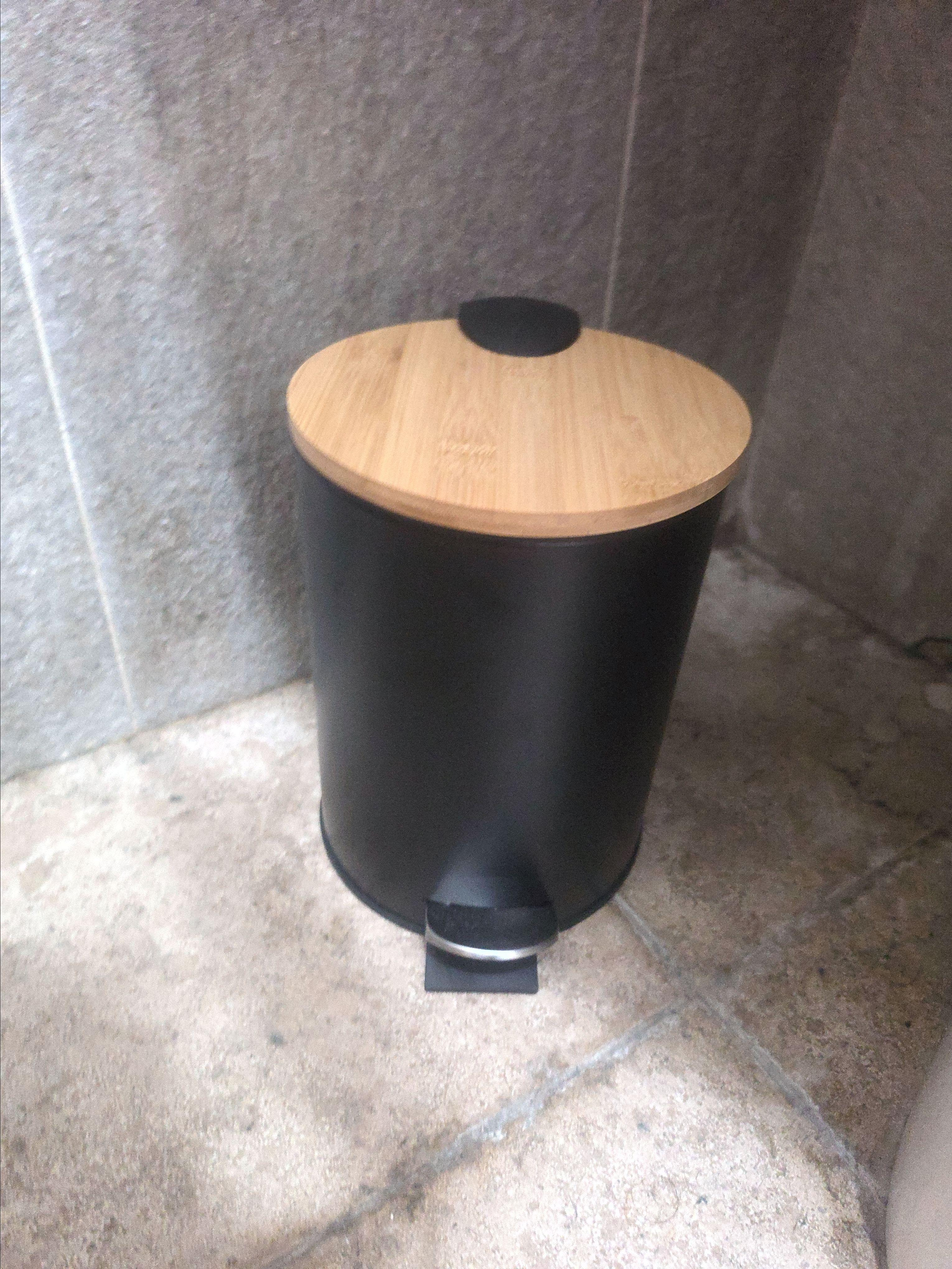bin: (284, 296, 753, 994)
